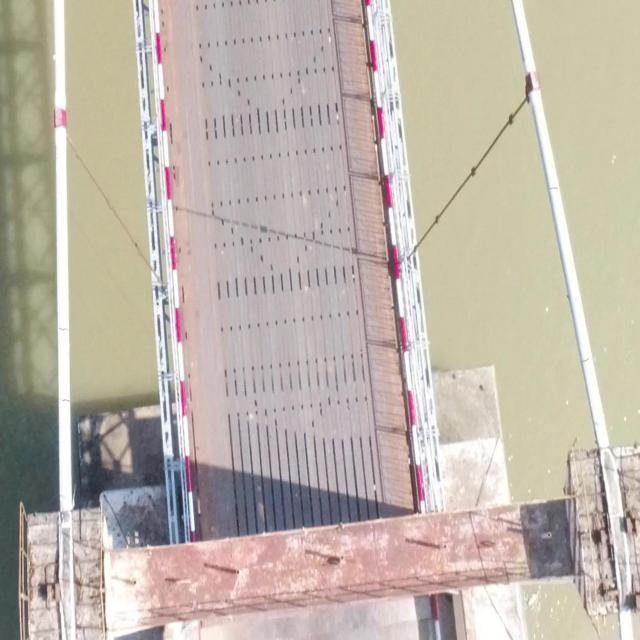crack: (548, 186, 558, 191), (60, 398, 70, 403), (581, 357, 589, 363), (59, 328, 70, 331)
